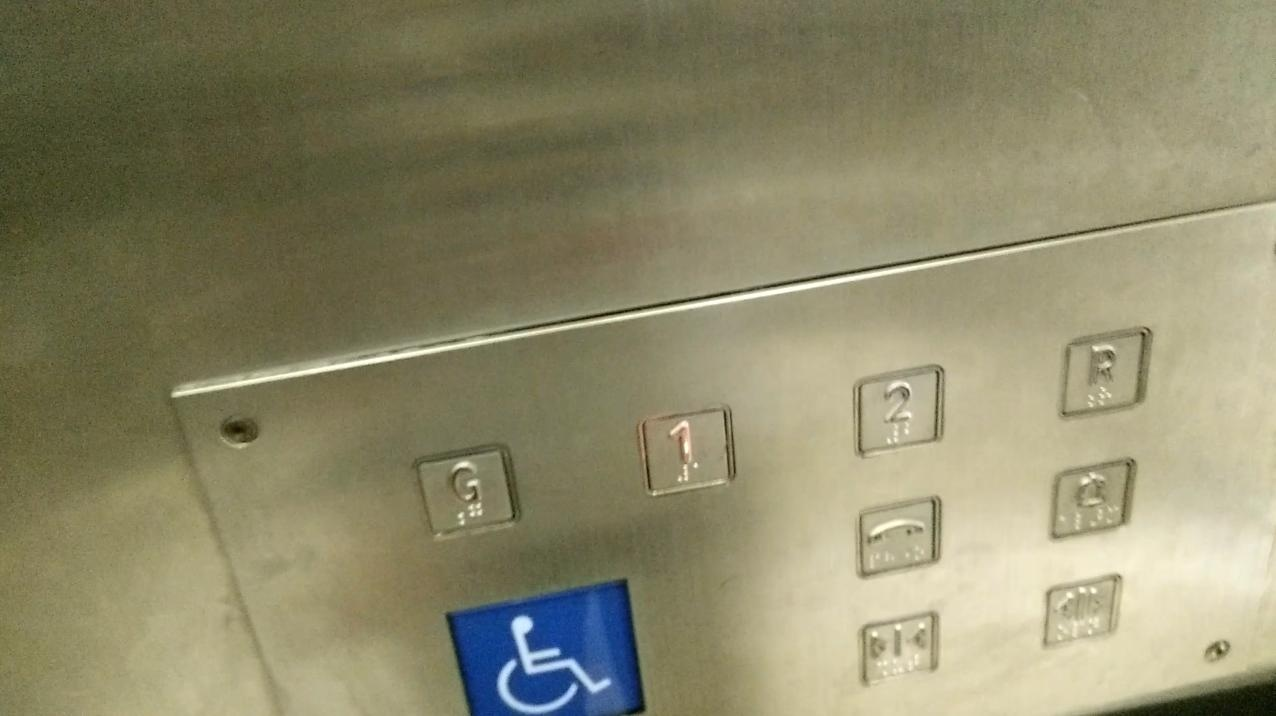1: (638, 401, 737, 499)
2: (850, 362, 947, 456)
CH: (443, 578, 646, 716)
G: (413, 440, 519, 542)
R: (1055, 326, 1153, 421)
alarm: (1048, 457, 1136, 542)
call: (854, 495, 942, 578)
close: (859, 610, 942, 686)
open: (1040, 573, 1123, 648)
